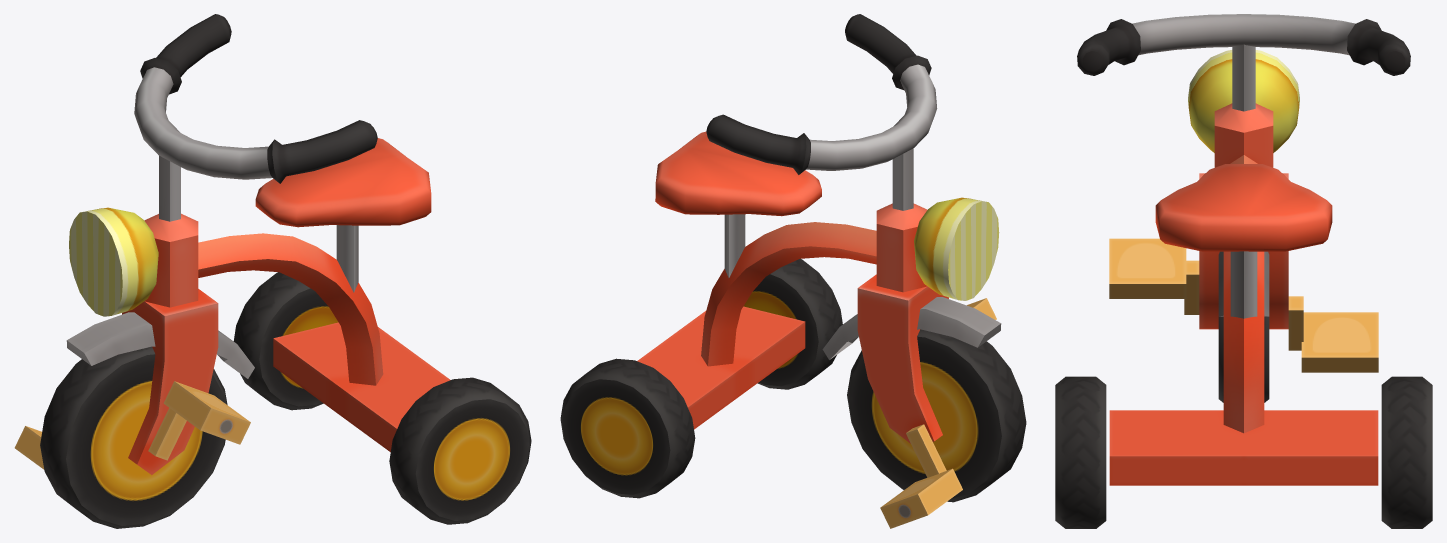
Rendered from ENV2010012.fbx.
3 renders of one model, left to right at view 1: azimuth 30°, elevation 25°; view 2: azimuth 150°, elevation 25°; view 3: azimuth 270°, elevation 25°, orthographic. The views are drawn at different scales.
Parts seen in each view (by area): view 1: smENV2010012; view 2: smENV2010012; view 3: smENV2010012.
Part boxes in pixels (<box>): smENV2010012: <box>14,14,531,528</box>; smENV2010012: <box>560,14,1026,528</box>; smENV2010012: <box>1055,14,1432,528</box>.
Bounding box in the file's own units: 39.1 × 39.02 × 30.84.
1 material, 1 textured.
